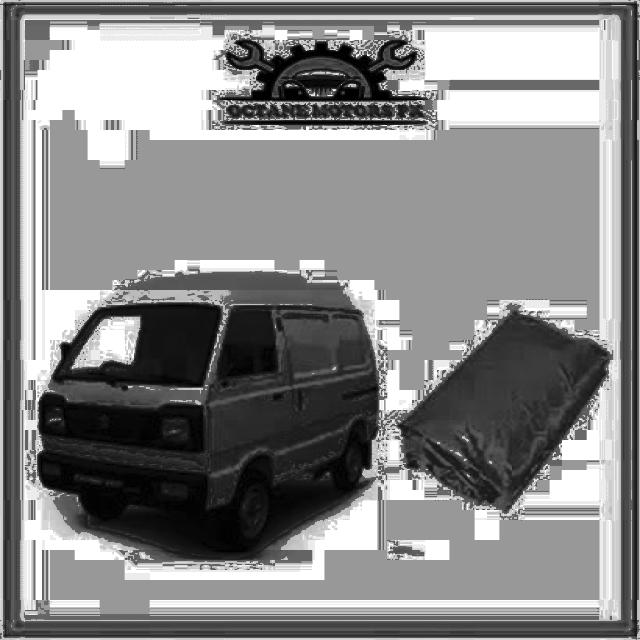LCV: (36, 290, 379, 551)
